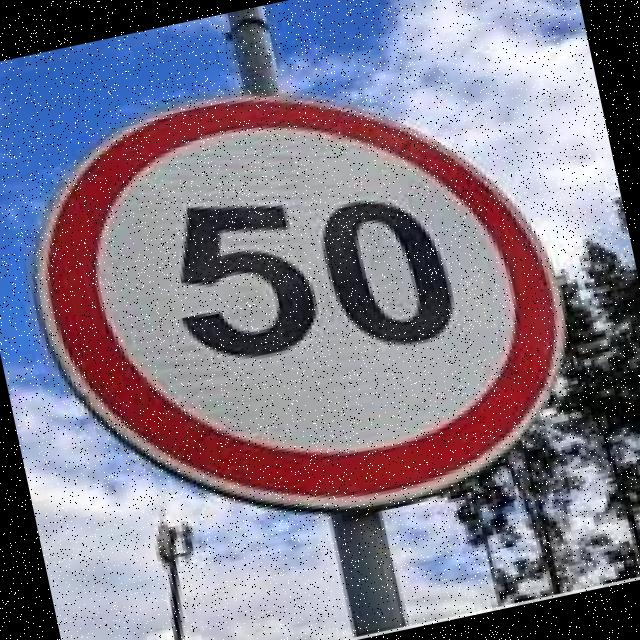speed_limit_50: (0, 24, 604, 575)
